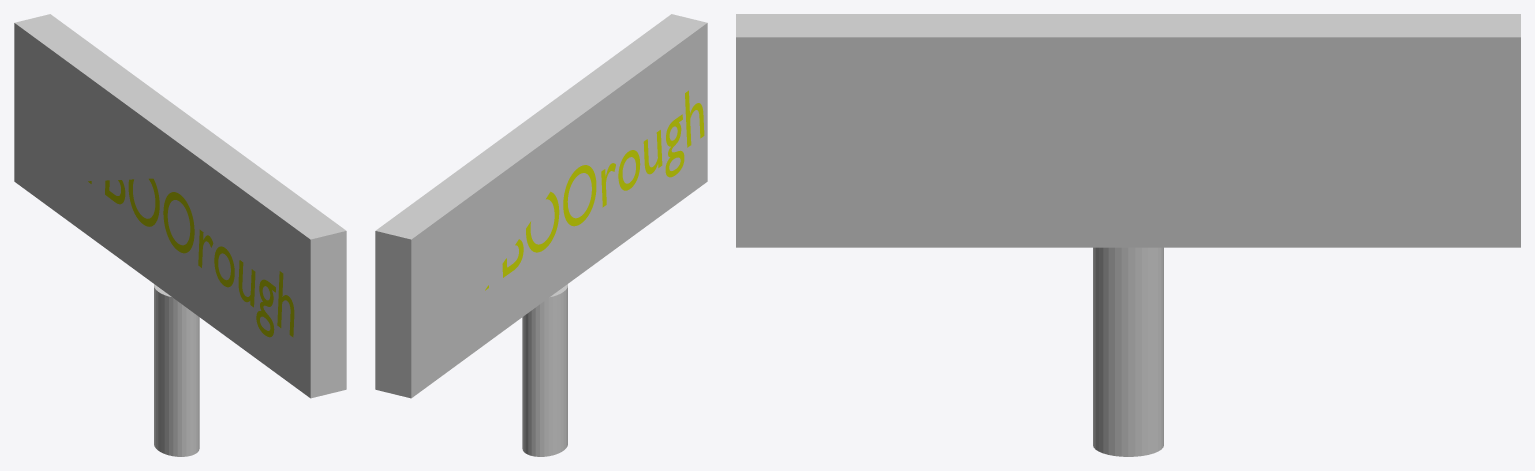
The model's file is Sign.fbx.
3 renders of one model, left to right at view 1: azimuth 30°, elevation 25°; view 2: azimuth 150°, elevation 25°; view 3: azimuth 270°, elevation 25°, orthographic. The views are drawn at different scales.
Visible parts, largest first — view 1: Cube, Cylinder, ScarBOOrough; view 2: Cube, Cylinder, ScarBOOrough; view 3: Cube, Cylinder.
Part boxes in pixels (box(x1,y1,x2,y2)): Cube: box(14, 14, 346, 398); Cylinder: box(154, 284, 199, 456); ScarBOOrough: box(88, 178, 294, 337); Cube: box(375, 14, 707, 398); Cylinder: box(522, 284, 567, 456); ScarBOOrough: box(485, 90, 704, 290); Cube: box(736, 14, 1520, 247); Cylinder: box(1093, 247, 1163, 456).
Size of the model in its own units: 56.65 by 401 by 676.
